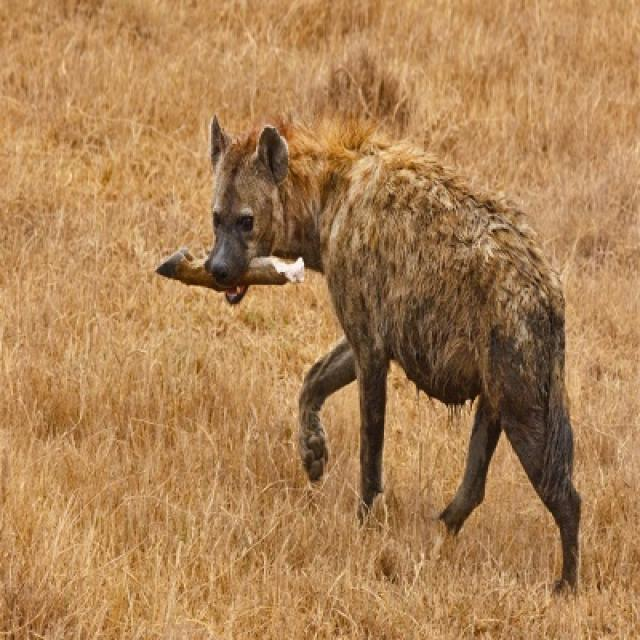hyena: (205, 115, 579, 590)
